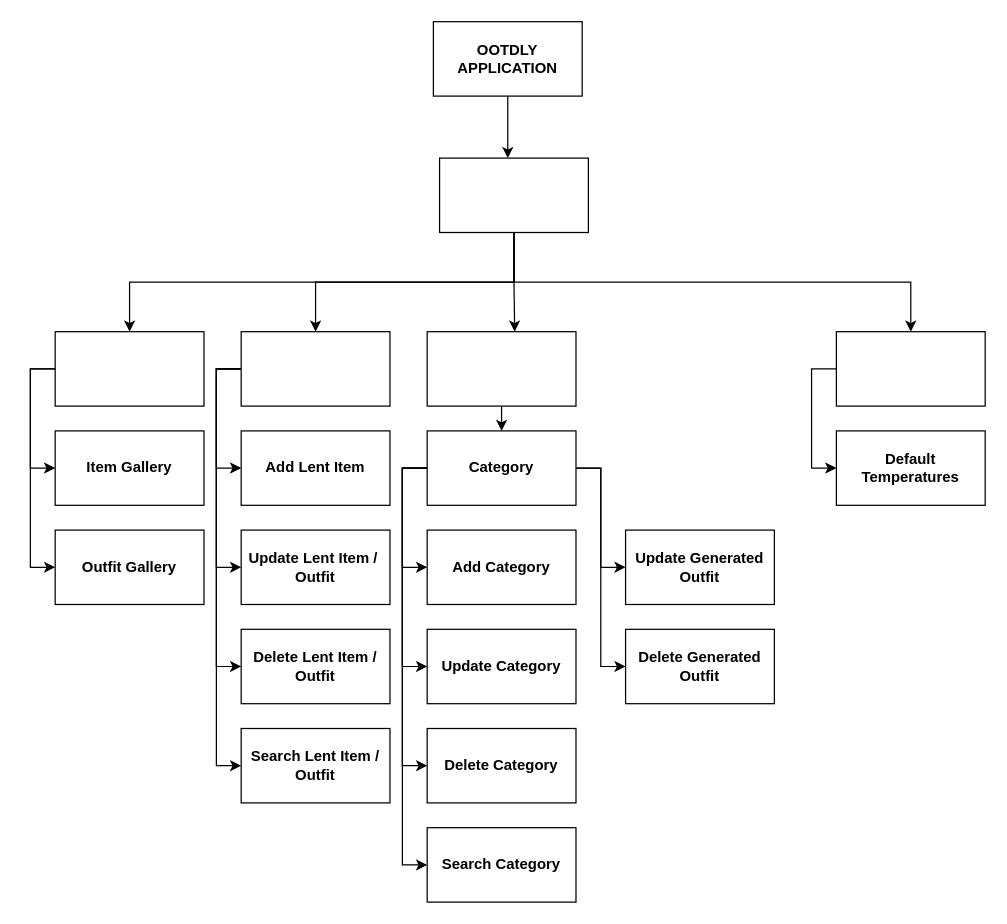
This 1007x924 diagram has some shape labels left out. The box of each missing label's shape, as (x1, y1, x2, y2) in pixels:
Generated Outfits: (426, 330, 576, 406)
Lent Records: (240, 330, 390, 406)
Location Current Temperature: (835, 330, 985, 406)
Wardrobe Gallery: (54, 330, 204, 406)
Wardrobe Tab: (438, 157, 588, 232)
